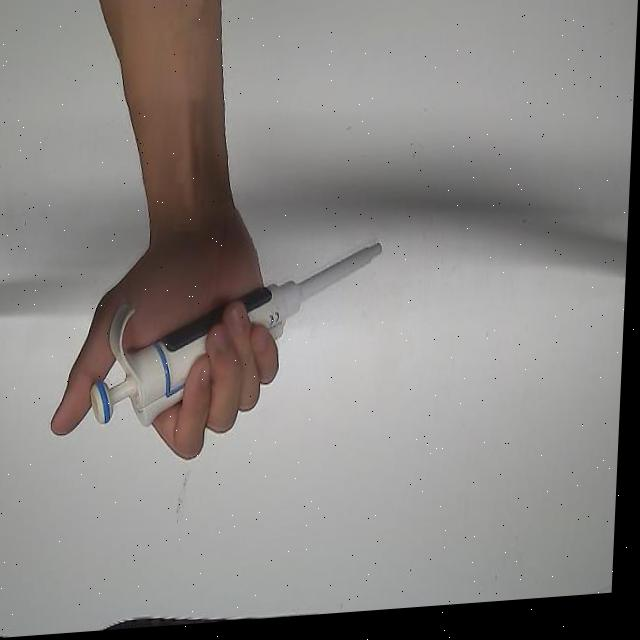Single Channel Pipettor: (91, 245, 389, 436)
